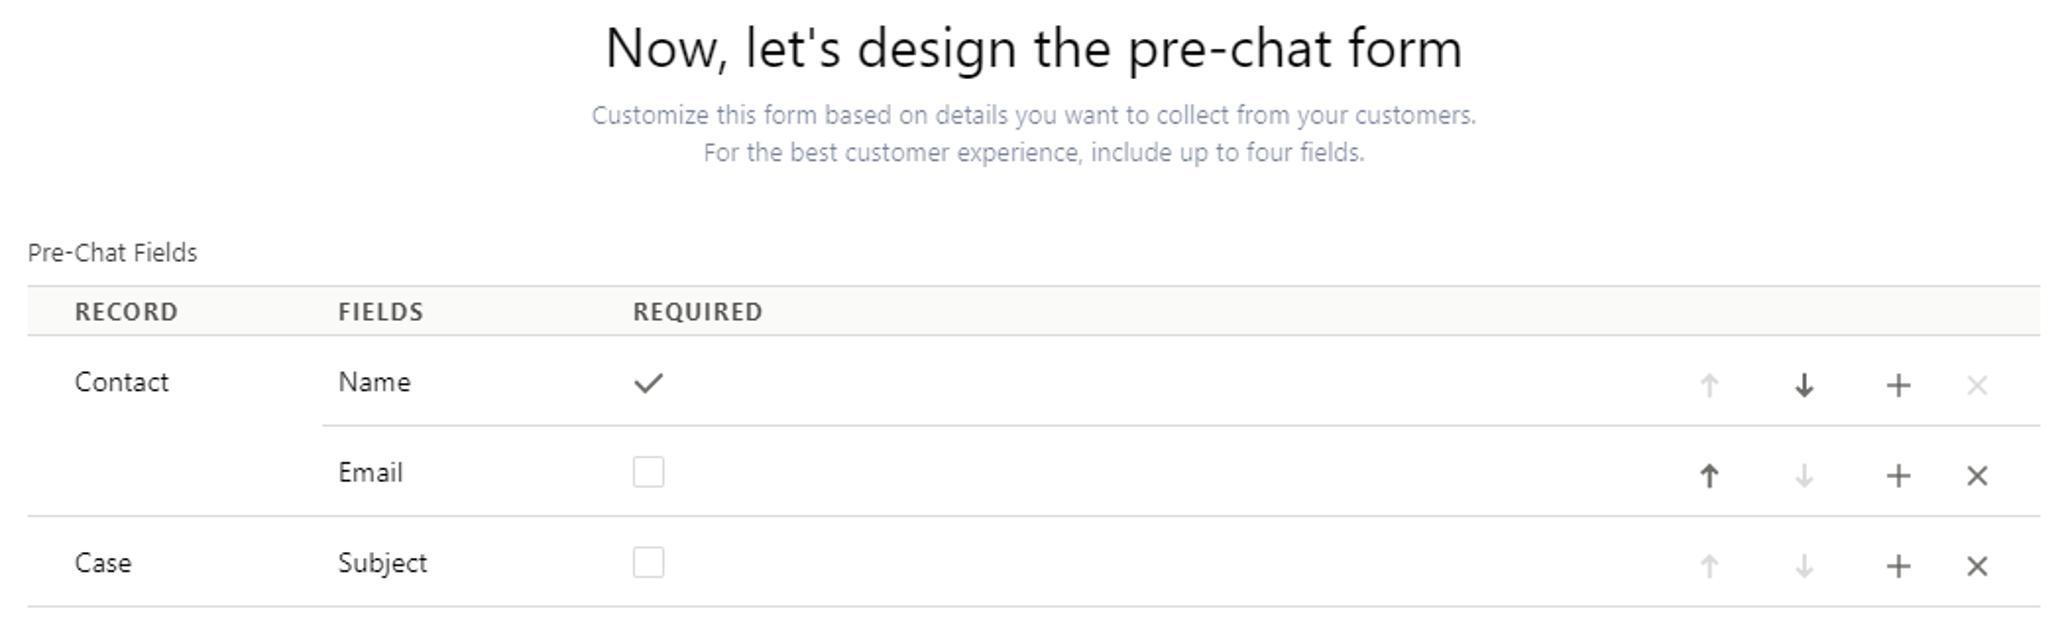checkbox: (633, 368, 667, 398), (633, 458, 666, 489), (634, 548, 666, 578)
icon: (1786, 453, 1836, 499), (1784, 361, 1824, 411), (1874, 364, 1918, 408), (1691, 449, 1728, 498), (1693, 368, 1730, 414), (1876, 549, 1921, 586), (1789, 549, 1828, 588), (1878, 458, 1921, 494), (1695, 545, 1731, 586), (1964, 361, 1996, 406), (1957, 458, 1996, 495), (1961, 545, 1996, 584)
label: (588, 16, 1480, 94), (68, 360, 182, 406), (321, 545, 441, 589), (629, 296, 767, 329), (326, 453, 419, 495), (329, 364, 419, 406), (68, 296, 184, 325), (334, 296, 428, 328), (64, 549, 146, 584)
table: (32, 283, 2044, 611)
